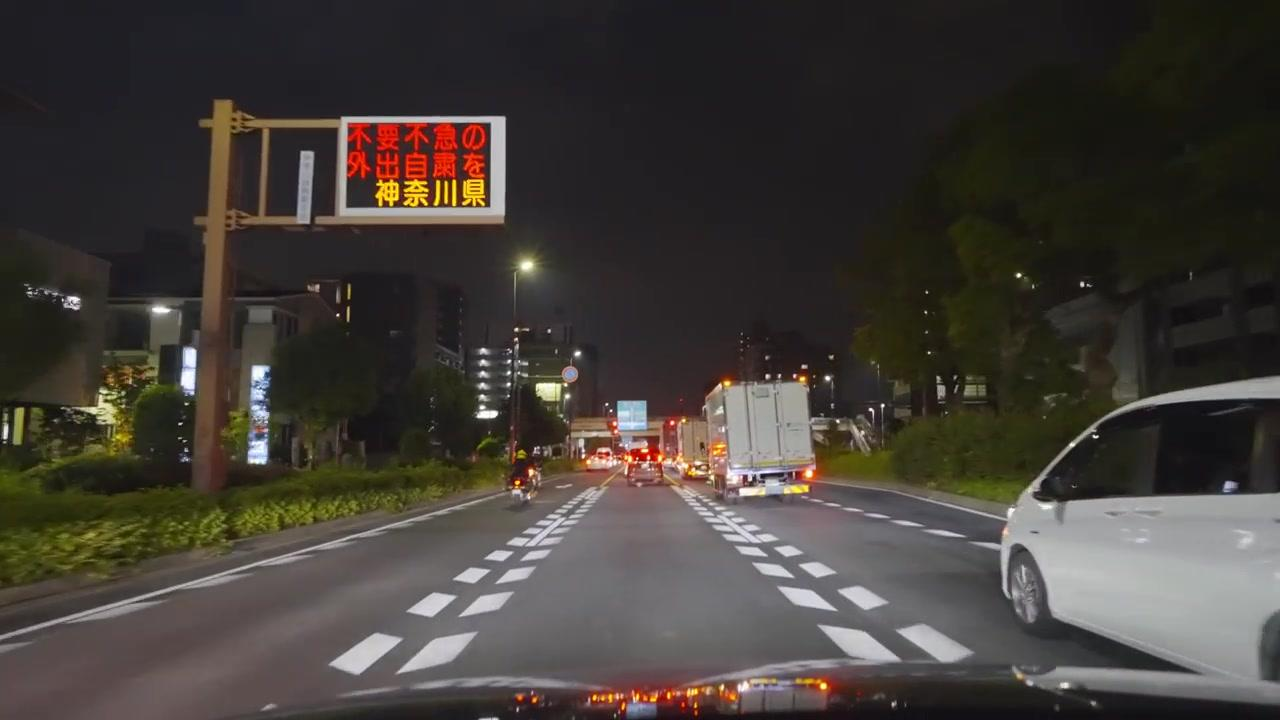car: (998, 374, 1279, 682), (628, 457, 658, 485), (683, 459, 708, 479)
motorcycle: (508, 476, 533, 508)
person: (509, 448, 536, 500)
truck: (702, 380, 817, 501)
